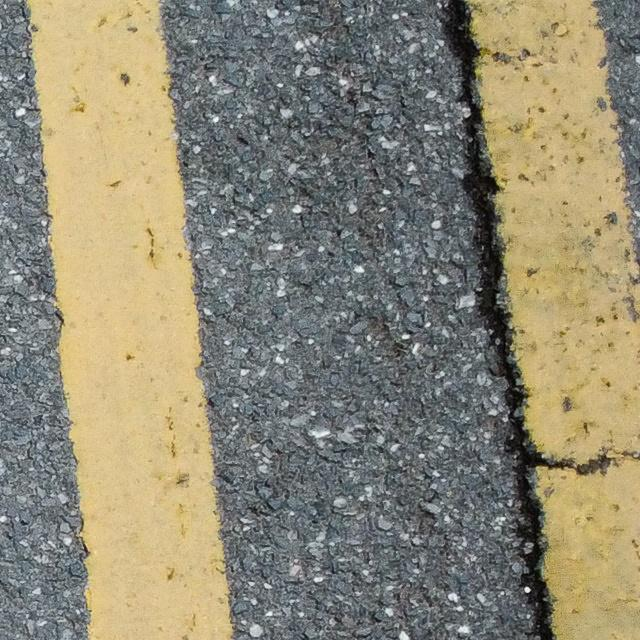LongitudinalCrack: (441, 2, 598, 637)
